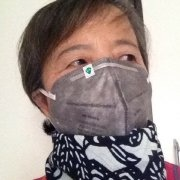Mask: (47, 36, 152, 141)
